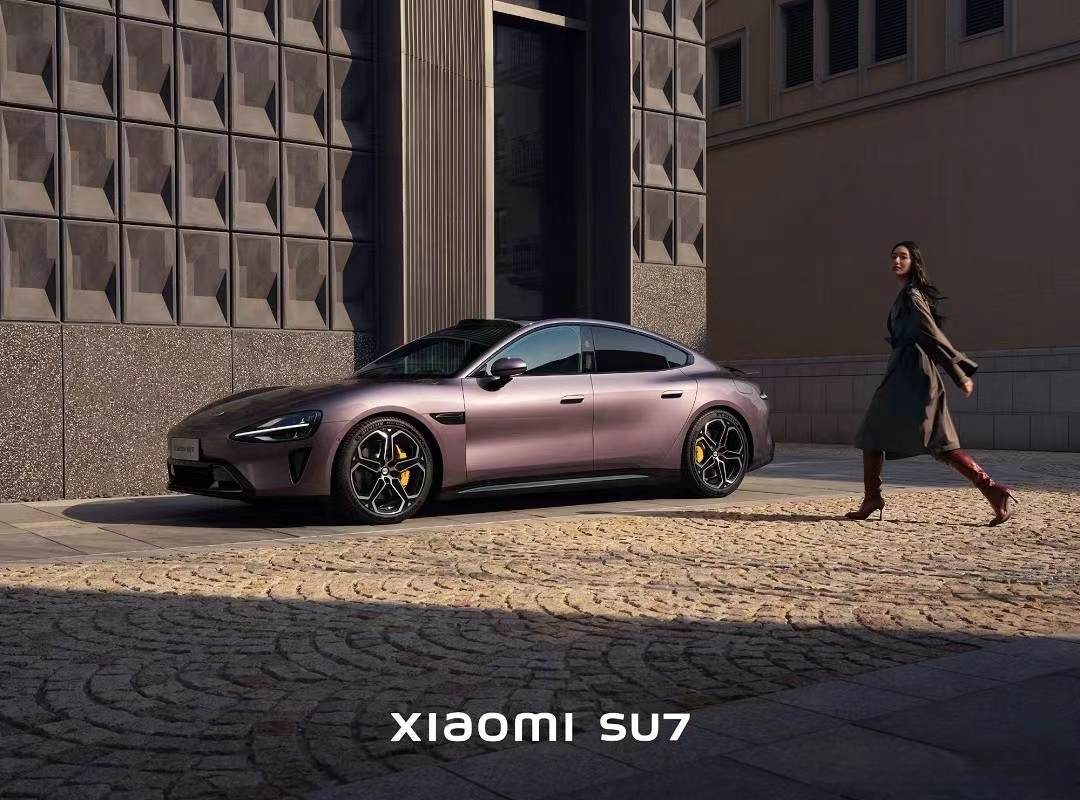su7: (159, 319, 792, 512), (785, 522, 787, 526)
